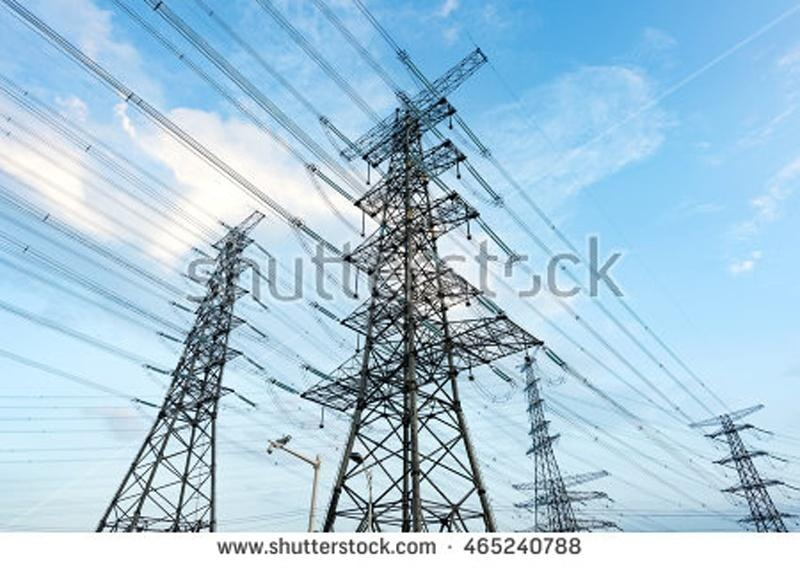power_tower: (307, 90, 509, 529), (111, 215, 262, 530), (510, 356, 618, 534), (656, 386, 781, 535)
